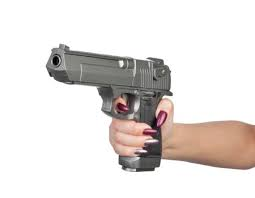gun: (46, 42, 175, 173)
